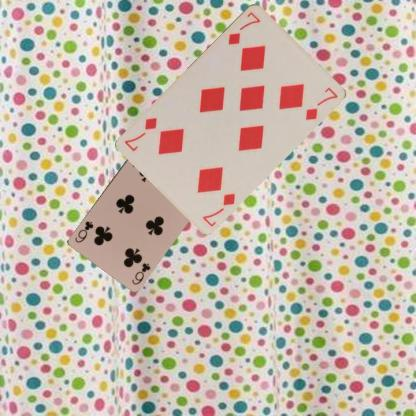6c: (130, 260, 152, 286)
7d: (225, 9, 262, 46), (200, 190, 236, 228)
